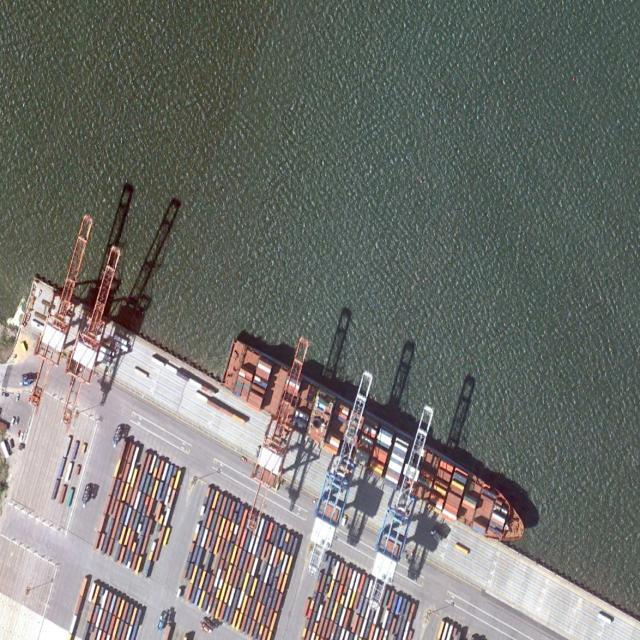Container Ship: (218, 334, 534, 557)
